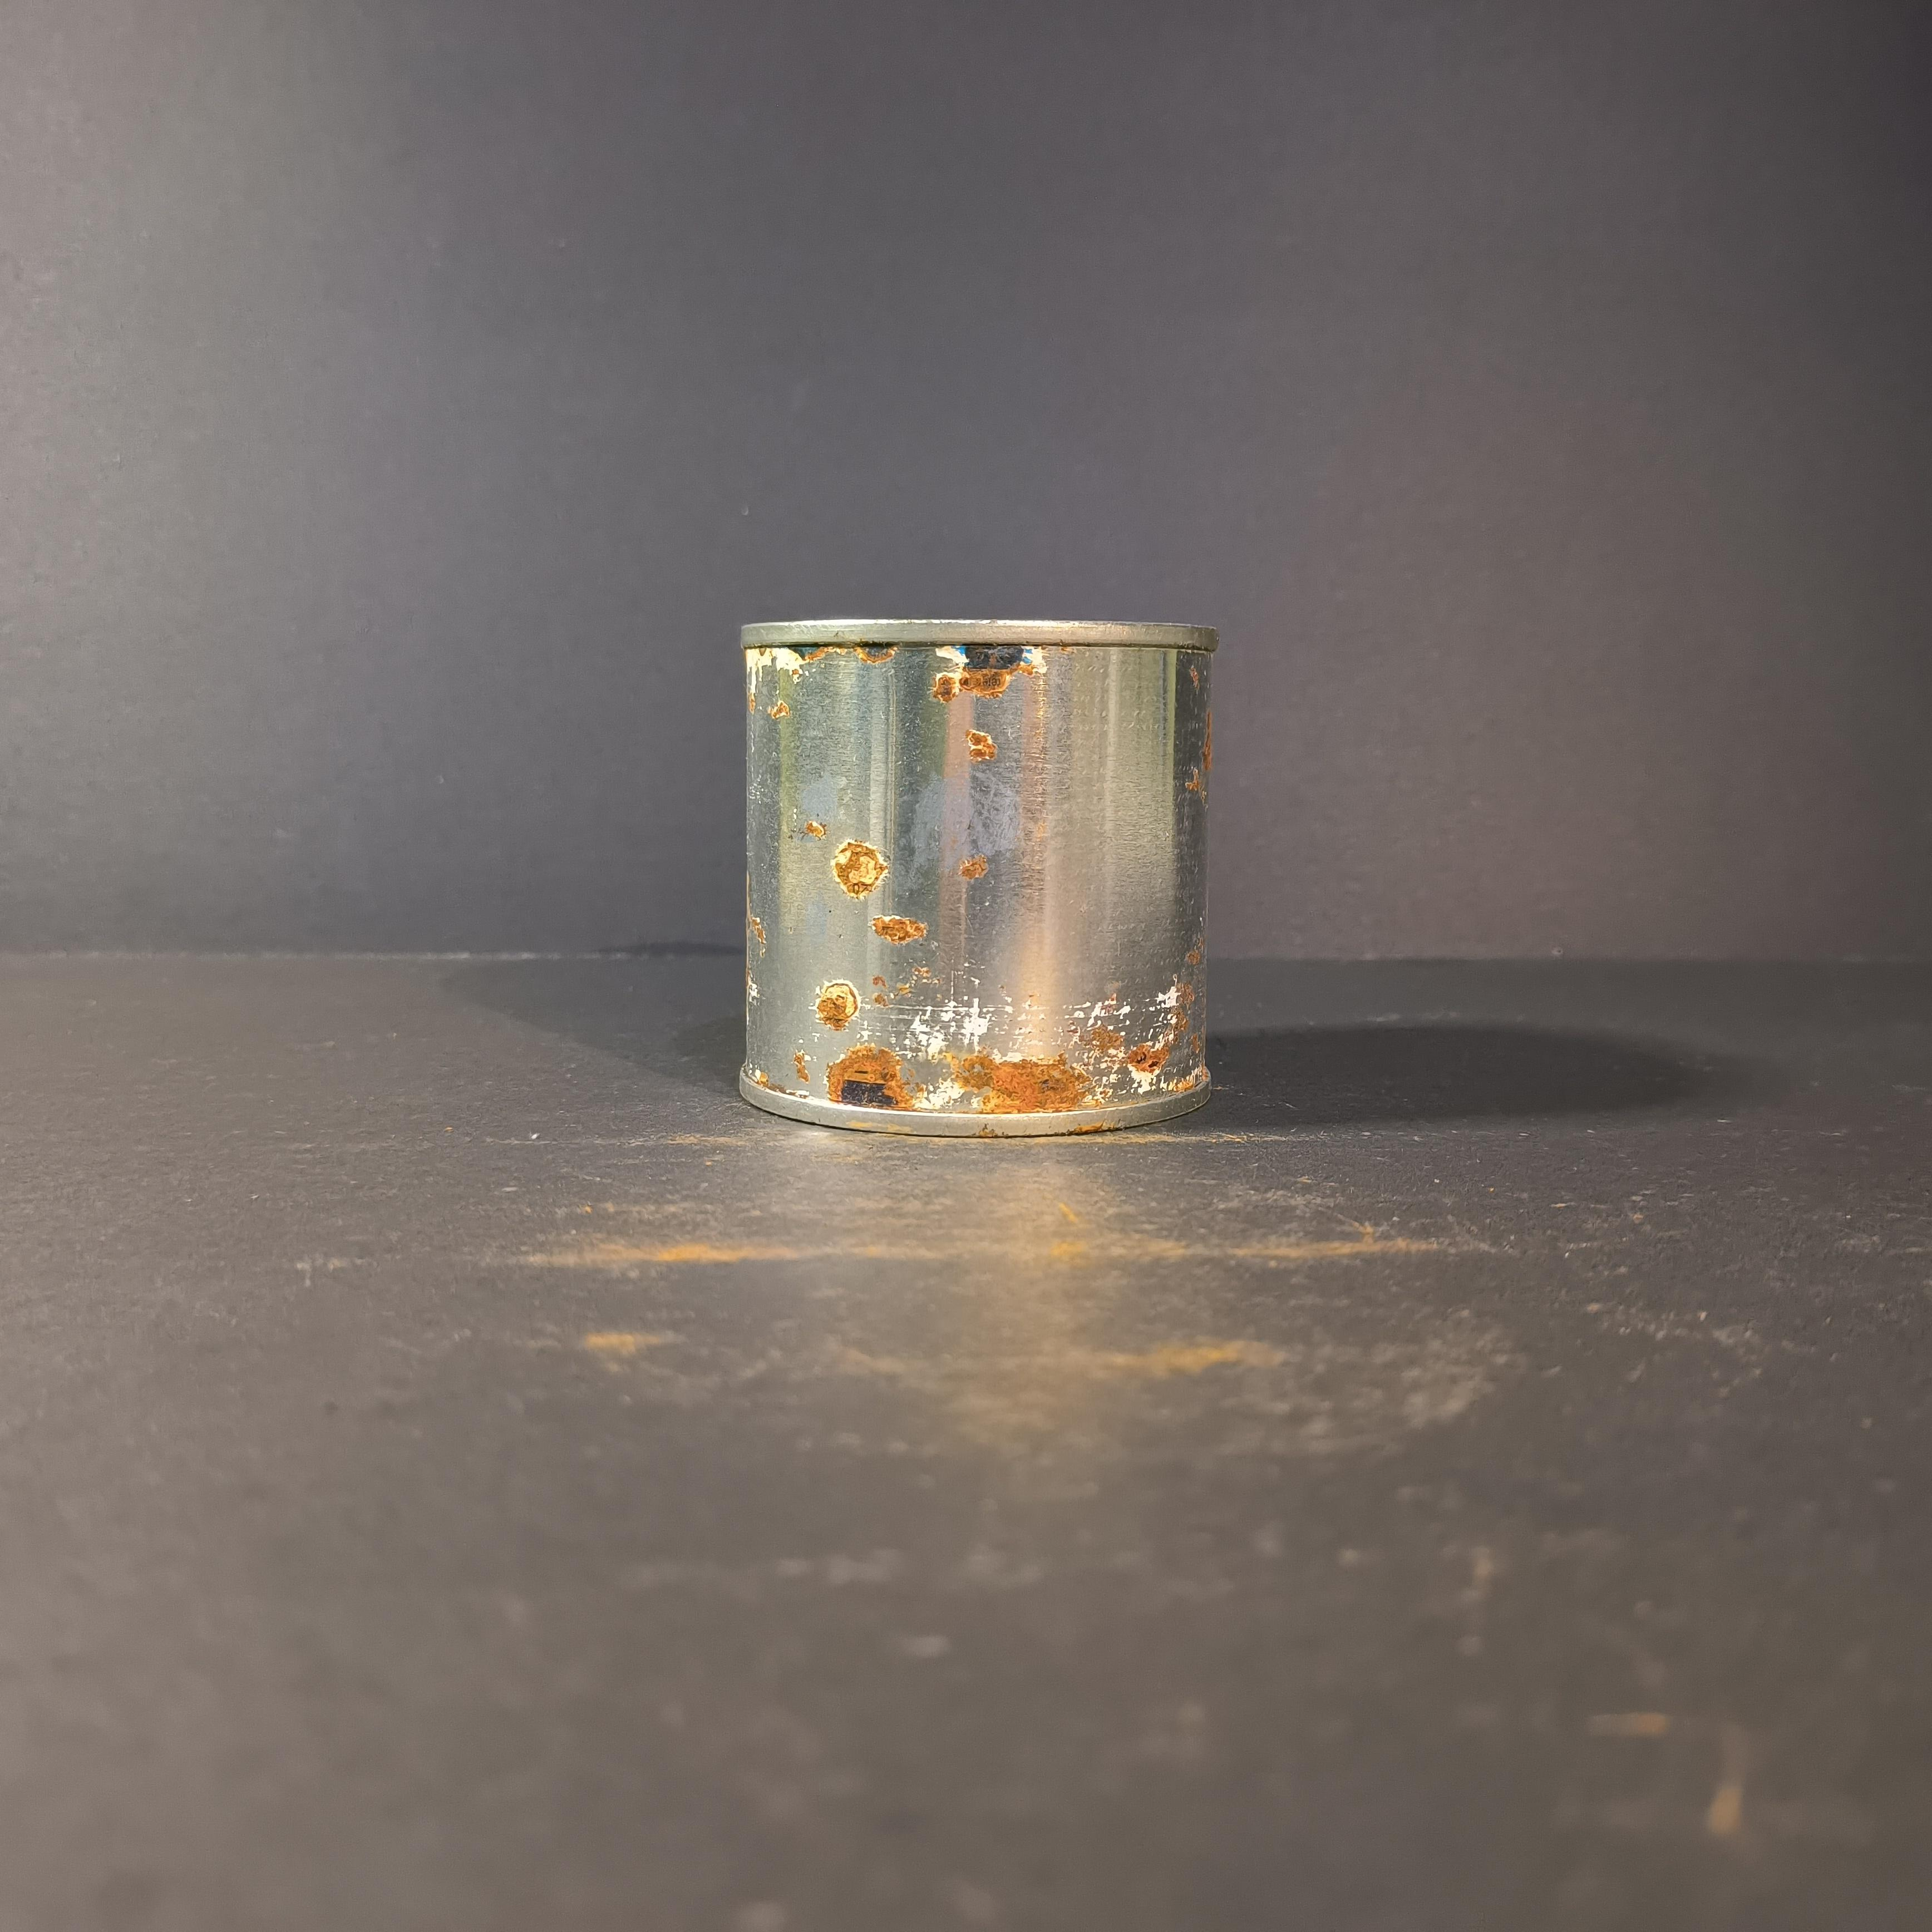Major Defect: (724, 602, 1230, 1148)
